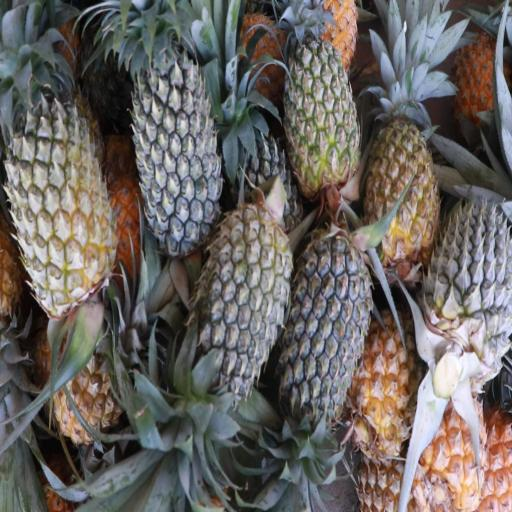------------------------------: (3, 83, 112, 307), (281, 12, 358, 190)
Pineapple - v8 v1: (364, 70, 436, 260), (50, 315, 150, 437), (356, 306, 430, 461), (413, 390, 488, 512)
